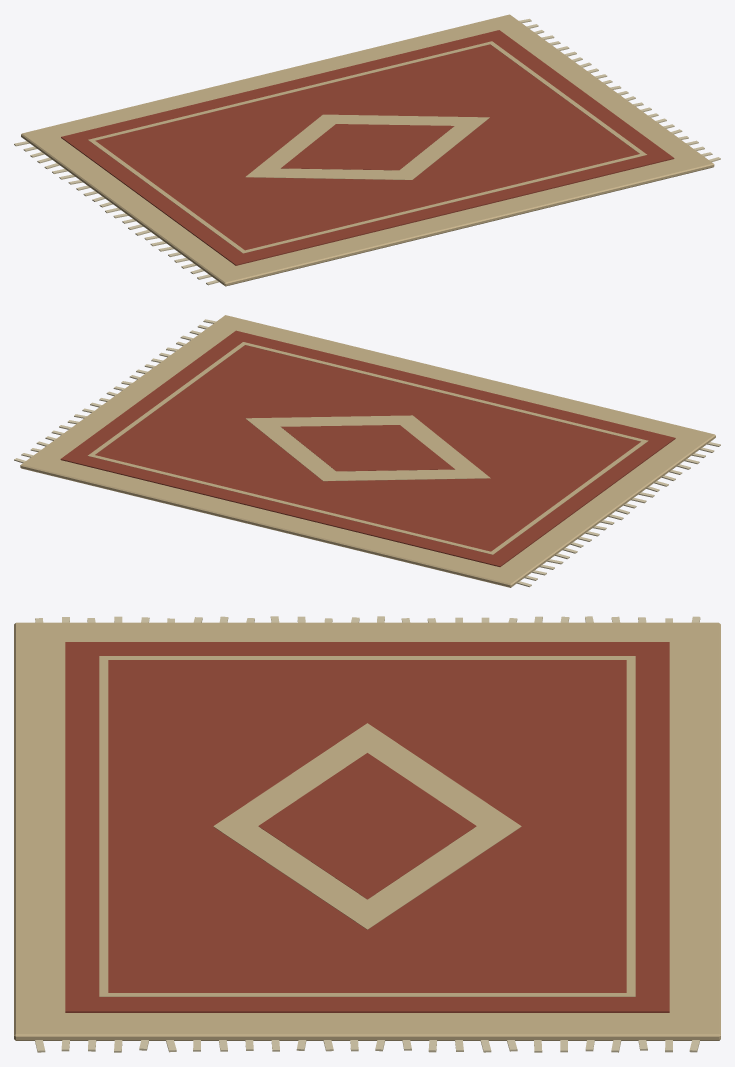
File: Tapete.fbx
3 views of the same model, one above another, from view 1: azimuth 30°, elevation 25°; view 2: azimuth 150°, elevation 25°; view 3: azimuth 270°, elevation 25° (orthographic). The views are drawn at different scales.
Visible parts, largest first — view 1: Tapete; view 2: Tapete; view 3: Tapete.
Boxes of the visible parts, bbox=[...] form: Tapete: bbox=[14, 14, 720, 286]; Tapete: bbox=[14, 315, 720, 587]; Tapete: bbox=[14, 616, 720, 1052].
Bounding box in the file's own units: 1.6 × 0.016 × 1.1.
